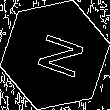N_W: (26, 28, 84, 82)
